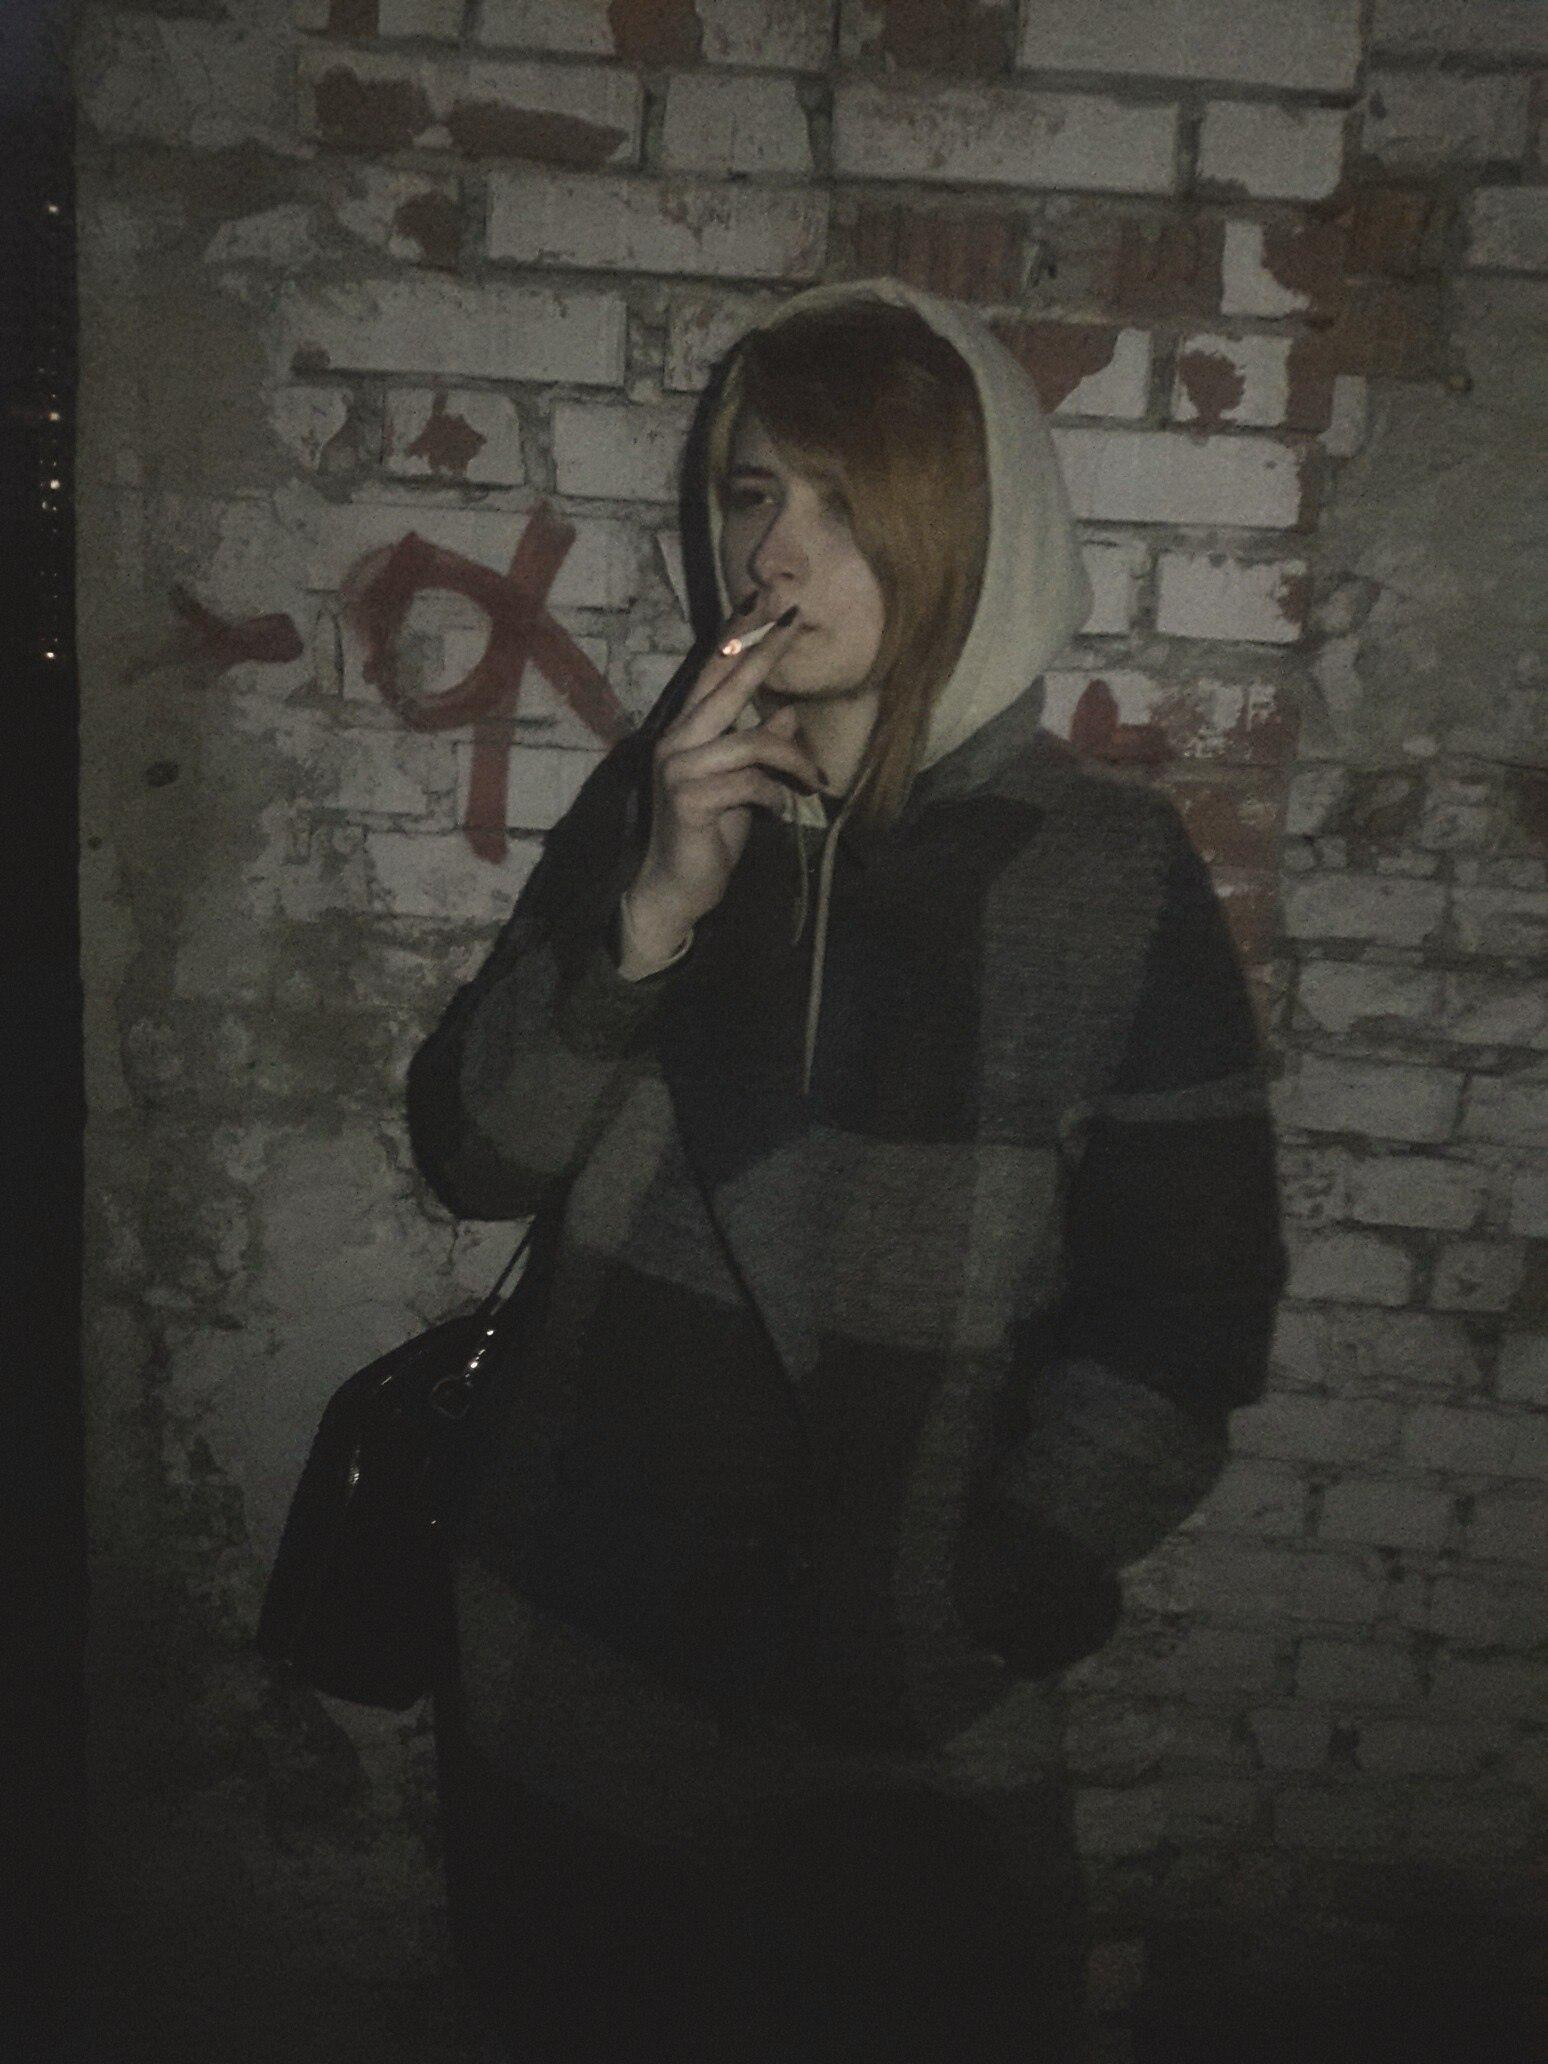cigarette: (719, 621, 777, 655)
